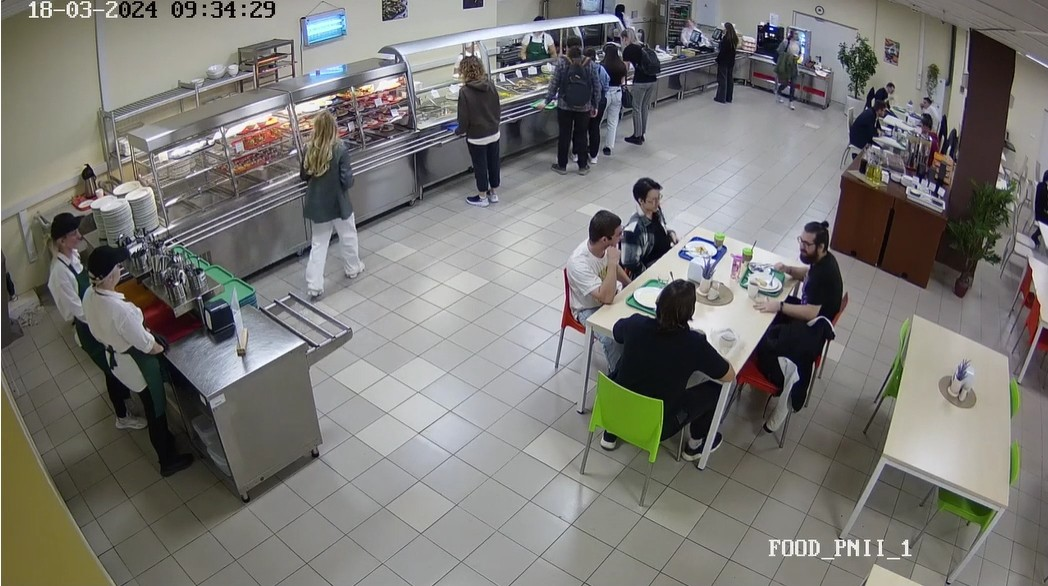Na_Kasse: (710, 20, 743, 102), (767, 27, 802, 102)
Ne_v_Ocheredi: (1025, 161, 1048, 257)
Personal: (79, 243, 189, 483), (37, 207, 148, 433), (510, 21, 556, 64), (674, 7, 707, 46), (454, 29, 484, 63), (610, 2, 646, 28)
Vybiraet: (289, 106, 356, 296), (542, 33, 591, 175), (454, 52, 500, 201), (619, 25, 654, 144), (583, 48, 615, 167), (601, 45, 628, 148)
Za_Stolom: (574, 280, 729, 475), (546, 202, 639, 353), (756, 212, 850, 321), (620, 176, 683, 258), (836, 102, 888, 169), (909, 107, 948, 152), (912, 89, 942, 126), (864, 78, 901, 107)
